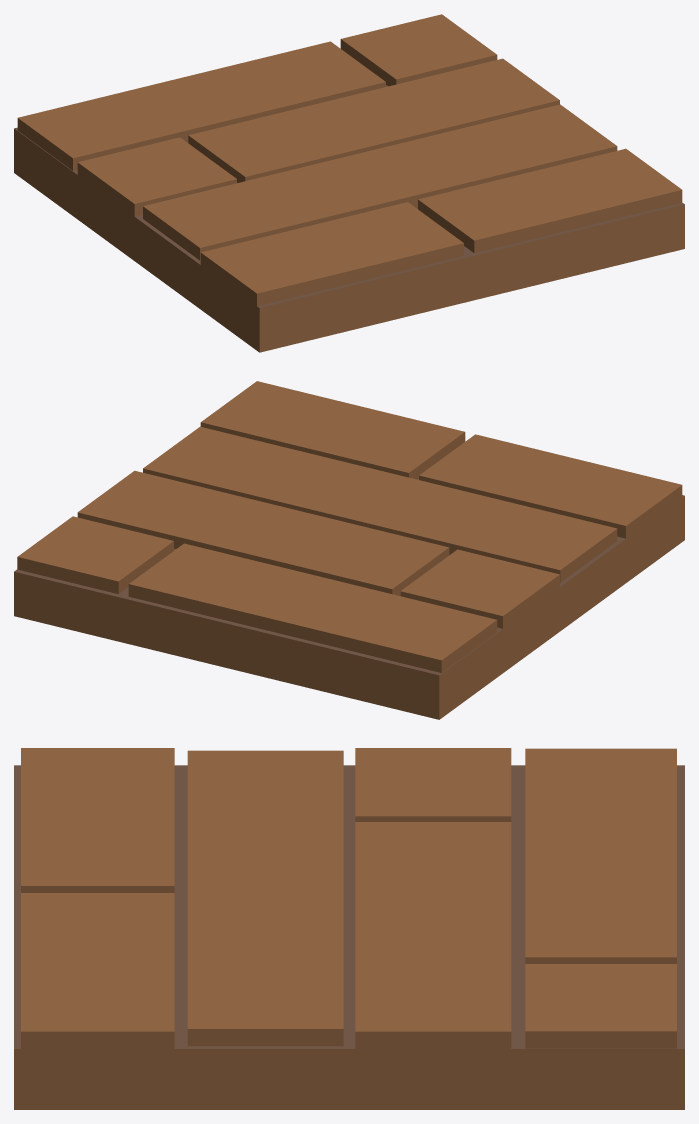
File: Mesh_GroundPlanks_05.fbx
The picture shows the model from 3 angles, top to bottom: view 1: azimuth 30°, elevation 25°; view 2: azimuth 150°, elevation 25°; view 3: azimuth 270°, elevation 25°; orthographic projection. The views are drawn at different scales.
Parts seen in each view (by area): view 1: Mesh_GroundPlanks_05; view 2: Mesh_GroundPlanks_05; view 3: Mesh_GroundPlanks_05.
Boxes of the visible parts, x1,y1,x2,y2 form: Mesh_GroundPlanks_05: (14, 14, 684, 352); Mesh_GroundPlanks_05: (14, 381, 684, 719); Mesh_GroundPlanks_05: (14, 748, 684, 1109).
Size of the model in its own units: 1 by 0.1285 by 1.
